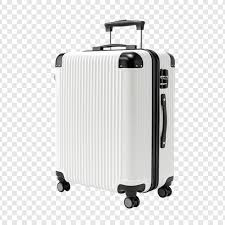suitcase: (53, 19, 177, 211)
